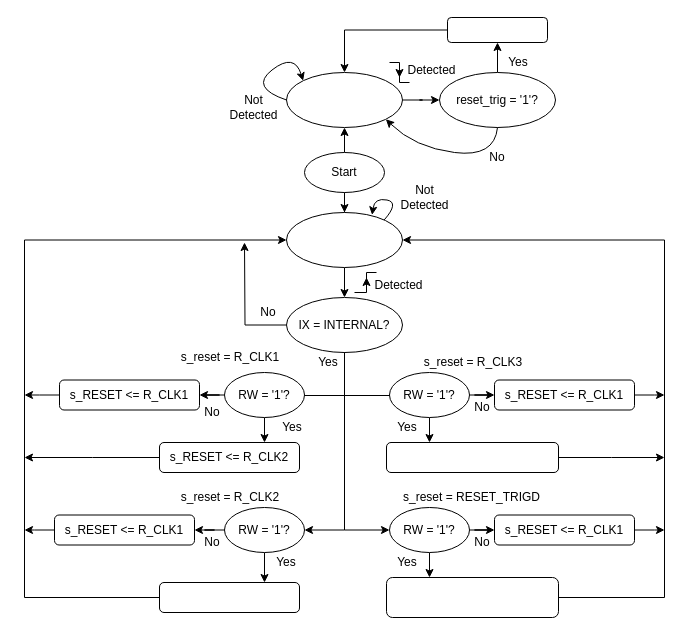
Some shapes in this 690 by 635 pixel diagram are drawn without their labels. The shapes that lost their labels are listed below. From the top down, each one's centre as x and y in pixels, then its label:
pixel 497 29: reset_trig <= '0'
pixel 344 100: Falling edge on CLK detected?
pixel 344 240: Rising edge on CLK detected?
pixel 472 457: s_RESET <= RESET_TRIGD
pixel 229 597: s_RESET <= R_CLK3
pixel 472 597: s_RESET <= R_CLK1 reset_trig <= '1'
